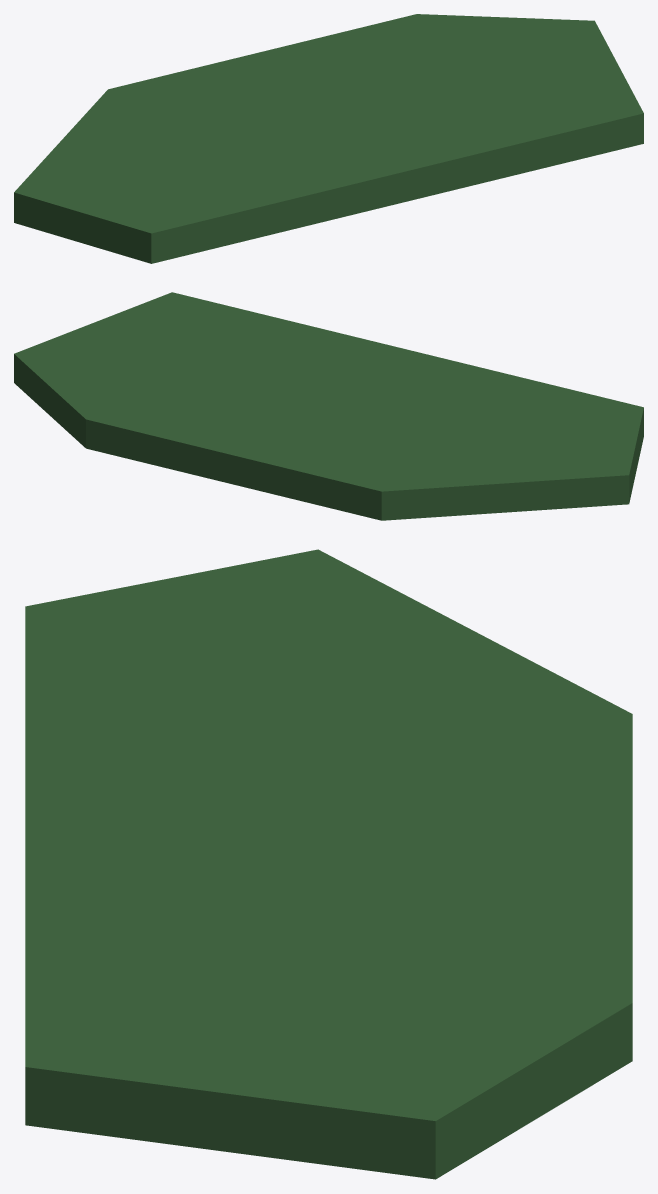
Rendered from x_proval_00_11_1_rmstrd.fbx.
3 views of the same model, one above another, from view 1: azimuth 30°, elevation 25°; view 2: azimuth 150°, elevation 25°; view 3: azimuth 270°, elevation 25° (orthographic). The views are drawn at different scales.
Visible parts, largest first — view 1: x_proval_00_11_1_rmstrd1; view 2: x_proval_00_11_1_rmstrd1; view 3: x_proval_00_11_1_rmstrd1.
Boxes of the visible parts, <box> form: x_proval_00_11_1_rmstrd1: <box>14,14,643,263</box>; x_proval_00_11_1_rmstrd1: <box>14,292,643,520</box>; x_proval_00_11_1_rmstrd1: <box>25,549,632,1179</box>.
Size of the model in its own units: 4.2 by 0.2 by 1.89.
